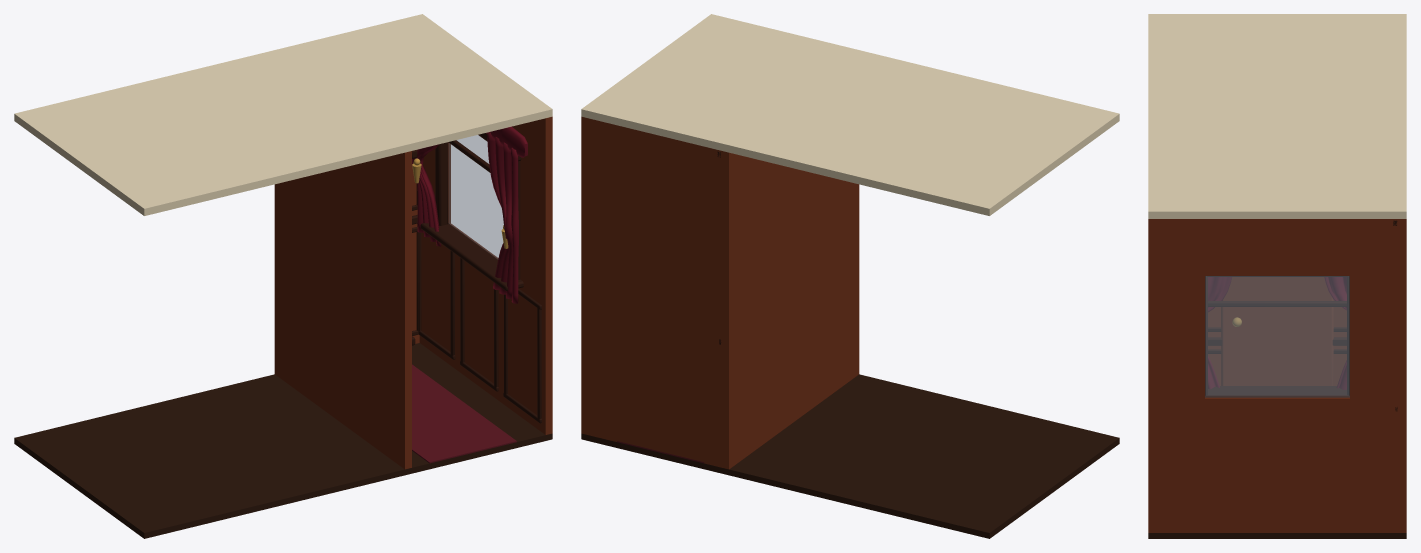
Rendered from sleeper_front.glb.
3 renders of one model, left to right at view 1: azimuth 30°, elevation 25°; view 2: azimuth 150°, elevation 25°; view 3: azimuth 270°, elevation 25°, orthographic.
Parts seen in each view (by area): view 1: sleeper_front, sleeper_front_glass; view 2: sleeper_front; view 3: sleeper_front, sleeper_front_glass.
Part boxes in pixels (<box>): sleeper_front: <box>14,14,552,538</box>; sleeper_front_glass: <box>448,135,503,259</box>; sleeper_front: <box>581,14,1119,538</box>; sleeper_front: <box>1148,14,1406,538</box>; sleeper_front_glass: <box>1205,276,1349,397</box>.
Bounding box in the file's own units: 2.9 × 2.24 × 1.6.
